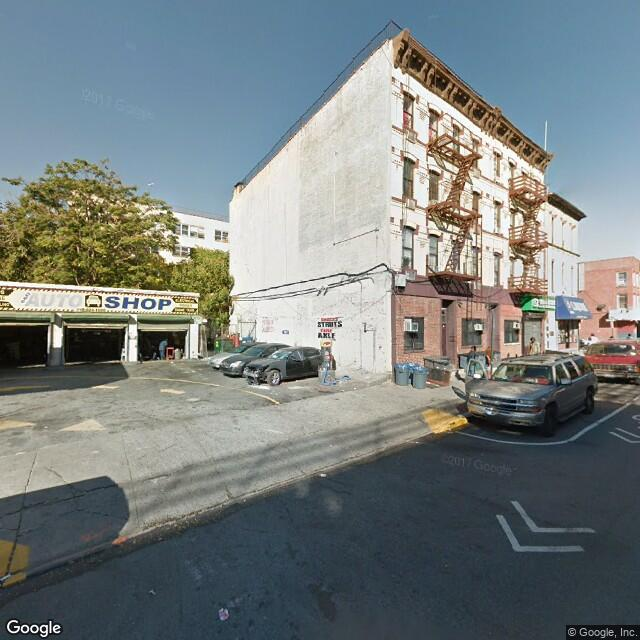litter: (209, 602, 245, 629), (310, 469, 336, 483)
